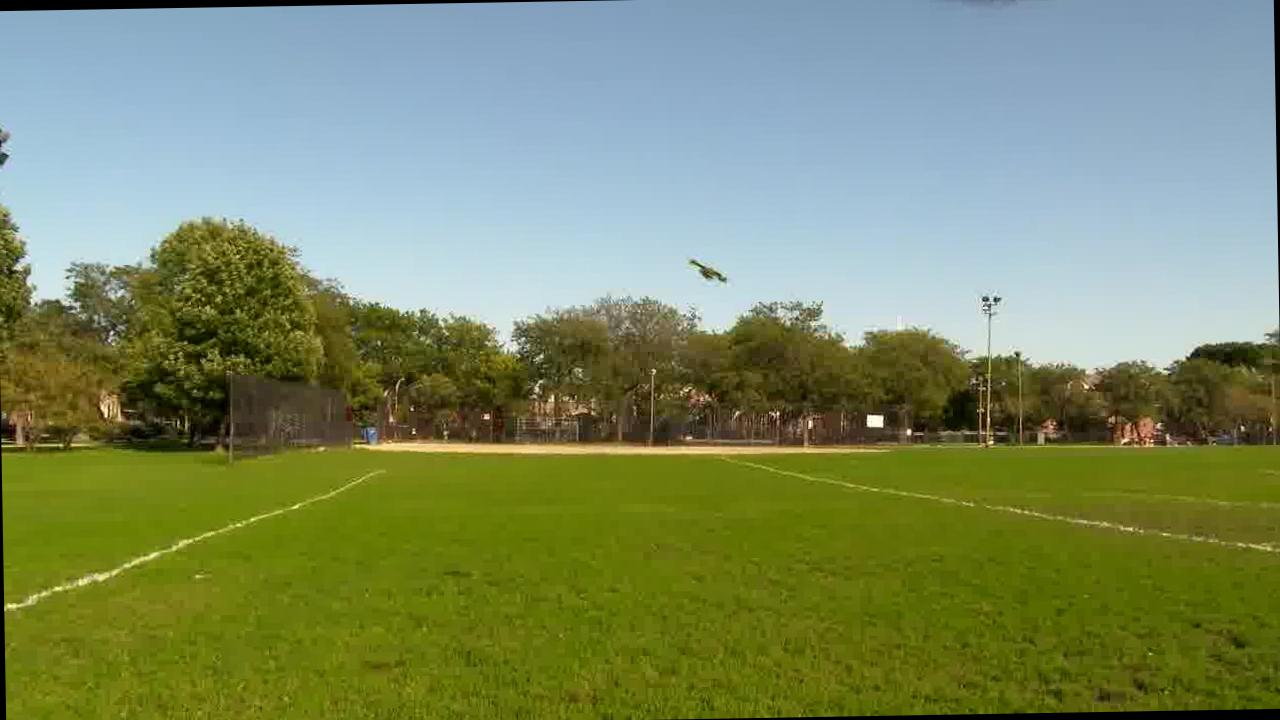drone: (682, 239, 738, 290)
